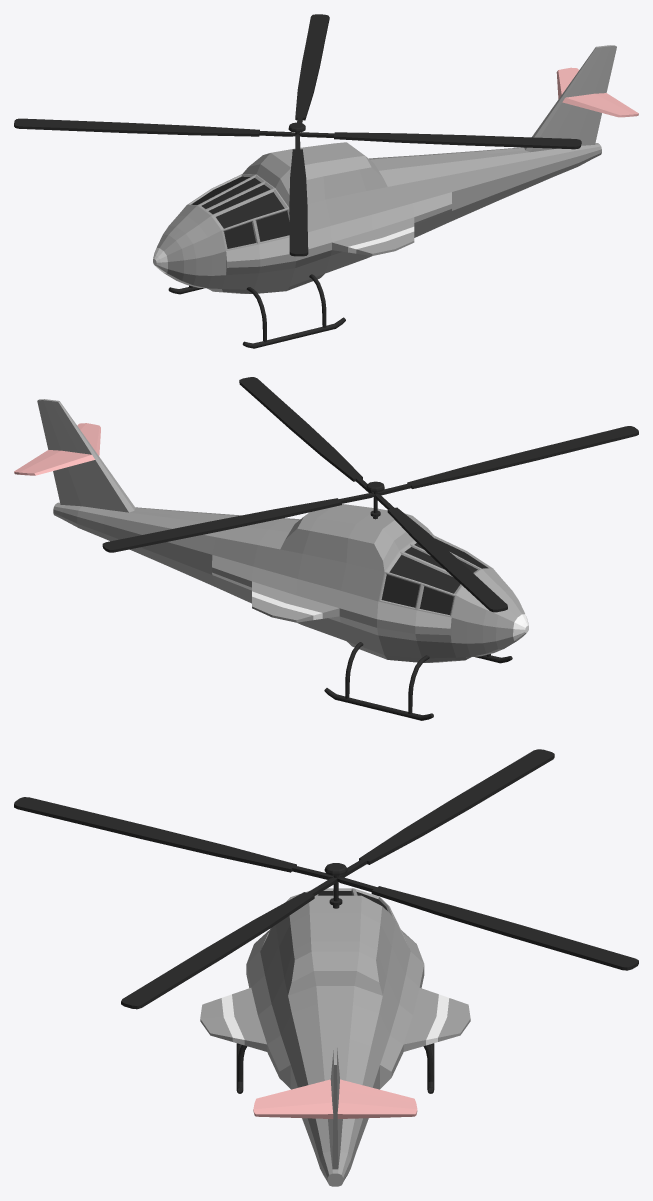
The model's file is Helicopter_A2.fbx.
3 views of the same model, one above another, from view 1: azimuth 30°, elevation 25°; view 2: azimuth 150°, elevation 25°; view 3: azimuth 270°, elevation 25° (orthographic). The views are drawn at different scales.
Visible parts, largest first — view 1: Helicopter_A2, Helicopter_A2 Fan; view 2: Helicopter_A2, Helicopter_A2 Fan; view 3: Helicopter_A2, Helicopter_A2 Fan.
Part boxes in pixels (x1,y1,x2,y2): Helicopter_A2: (153, 45, 638, 348); Helicopter_A2 Fan: (14, 14, 581, 256); Helicopter_A2: (14, 399, 528, 720); Helicopter_A2 Fan: (102, 377, 638, 612); Helicopter_A2: (200, 888, 470, 1186); Helicopter_A2 Fan: (14, 749, 638, 1009).
Bounding box in the file's own units: 6.5 × 2.16 × 5.23.
